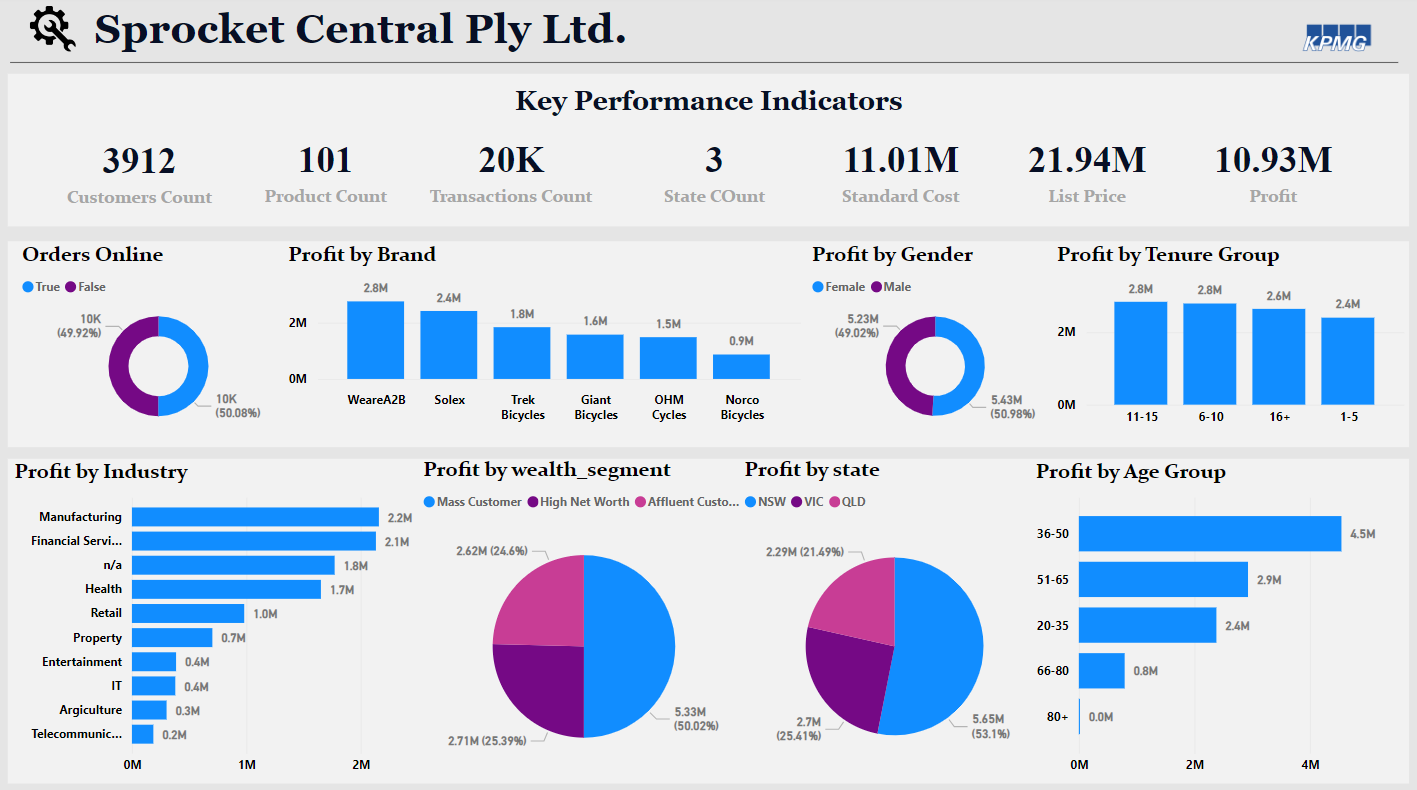

Layout of this report page (visuals, bound fields, positions):
{"tool":"powerbi","page":{"name":"Sprocket","canvas":[1280,720],"ordinal":0},"visuals":[{"type":"textbox","box":[81.1,4.3,1171.4,56.5],"z":0},{"type":"basicShape","box":[0,40.5,1271.3,40.5],"z":1000},{"type":"shape","box":[8.4,71,1263.3,137.9],"z":2000},{"type":"image","box":[15.6,0,65.4,61.2],"z":3000},{"type":"image","box":[1132.4,0,147.6,76.6],"z":4000},{"type":"card","fields":{"Values":["CustomerDemographic.Customers Count"]},"box":[43.7,117,165.7,80.8],"z":5000},{"type":"textbox","box":[54.3,76.6,1171.4,43.2],"z":6000},{"type":"card","fields":{"Values":["CustomerDemographic.Product Count"]},"box":[210.5,116.2,168.2,81.5],"z":7000},{"type":"card","fields":{"Values":["CustomerDemographic.Transactions Count"]},"box":[378.7,116.2,166.5,81.5],"z":8000},{"type":"card","fields":{"Values":["Transactions.Standard Cost"]},"box":[728.9,116.2,168.2,81.5],"z":9000},{"type":"card","fields":{"Values":["Count(CustomerAddress.state)"]},"box":[560.7,116.2,168.2,81.5],"z":10000},{"type":"card","fields":{"Values":["Transactions.Profit"]},"box":[1065.3,116.2,168.2,81.5],"z":11000},{"type":"card","fields":{"Values":["Transactions.List Price"]},"box":[897.1,116.2,168.2,81.5],"z":12000},{"type":"shape","box":[8.4,221.5,1263.3,185.2],"z":13000},{"type":"donutChart","title":"Profit by Gender","fields":{"Category":["CustomerDemographic.gender"],"Y":["Transactions.Difference"]},"box":[728.4,221.5,232.6,175.5],"z":14000},{"type":"donutChart","title":"Orders Online","fields":{"Category":["Transactions.online_order"],"Y":["CustomerDemographic.Transactions Count"]},"box":[15.3,221.5,256.3,175.5],"z":15000},{"type":"clusteredColumnChart","title":"Profit by Brand","fields":{"Category":["Transactions.brand"],"Y":["Transactions.Difference"]},"box":[256.3,221.5,472.2,171.3],"z":16000},{"type":"clusteredColumnChart","fields":{"Category":["CustomerDemographic.tenure (groups)"],"Y":["Transactions.Profit"]},"box":[948.5,221.5,323.1,175.5],"z":17000},{"type":"shape","box":[8.4,417.8,1263.3,292.5],"z":18000},{"type":"clusteredBarChart","title":"Profit by Industry","fields":{"Category":["CustomerDemographic.job_industry_category"],"Y":["Transactions.Difference"]},"box":[8.7,417.9,393.6,293],"z":19000},{"type":"pieChart","fields":{"Category":["CustomerDemographic.wealth_segment"],"Y":["Transactions.Profit"]},"box":[378,416.2,300,293],"z":20000},{"type":"pieChart","fields":{"Y":["Transactions.Profit"],"Category":["CustomerAddress.state"]},"box":[667.6,416.2,280.9,293],"z":21000},{"type":"clusteredBarChart","fields":{"Category":["CustomerDemographic.Age Group"],"Y":["Transactions.Profit"]},"box":[929.4,417.9,336.4,293],"z":22000}]}

Visuals, with their boxes in screenshot pixels (x1, y1, x2, y2), scaled from the page's 1280x720 canvas onto the 1417x790 screenshot:
textbox: region(90, 5, 1387, 67)
basicShape: region(0, 44, 1407, 89)
shape: region(9, 78, 1408, 229)
image: region(17, 0, 90, 67)
image: region(1254, 0, 1416, 84)
card - CustomerDemographic.Customers Count: region(48, 128, 232, 217)
textbox: region(60, 84, 1357, 131)
card - CustomerDemographic.Product Count: region(233, 127, 419, 217)
card - CustomerDemographic.Transactions Count: region(419, 127, 604, 217)
card - Transactions.Standard Cost: region(807, 127, 993, 217)
card - Count(CustomerAddress.state): region(621, 127, 807, 217)
card - Transactions.Profit: region(1179, 127, 1366, 217)
card - Transactions.List Price: region(993, 127, 1179, 217)
shape: region(9, 243, 1408, 446)
"Profit by Gender" donutChart: region(806, 243, 1064, 436)
"Orders Online" donutChart: region(17, 243, 301, 436)
"Profit by Brand" clusteredColumnChart: region(284, 243, 806, 431)
clusteredColumnChart - CustomerDemographic.tenure (groups) x Transactions.Profit: region(1050, 243, 1408, 436)
shape: region(9, 458, 1408, 779)
"Profit by Industry" clusteredBarChart: region(10, 459, 445, 780)
pieChart - CustomerDemographic.wealth_segment x Transactions.Profit: region(418, 457, 751, 778)
pieChart - Transactions.Profit x CustomerAddress.state: region(739, 457, 1050, 778)
clusteredBarChart - CustomerDemographic.Age Group x Transactions.Profit: region(1029, 459, 1401, 780)
